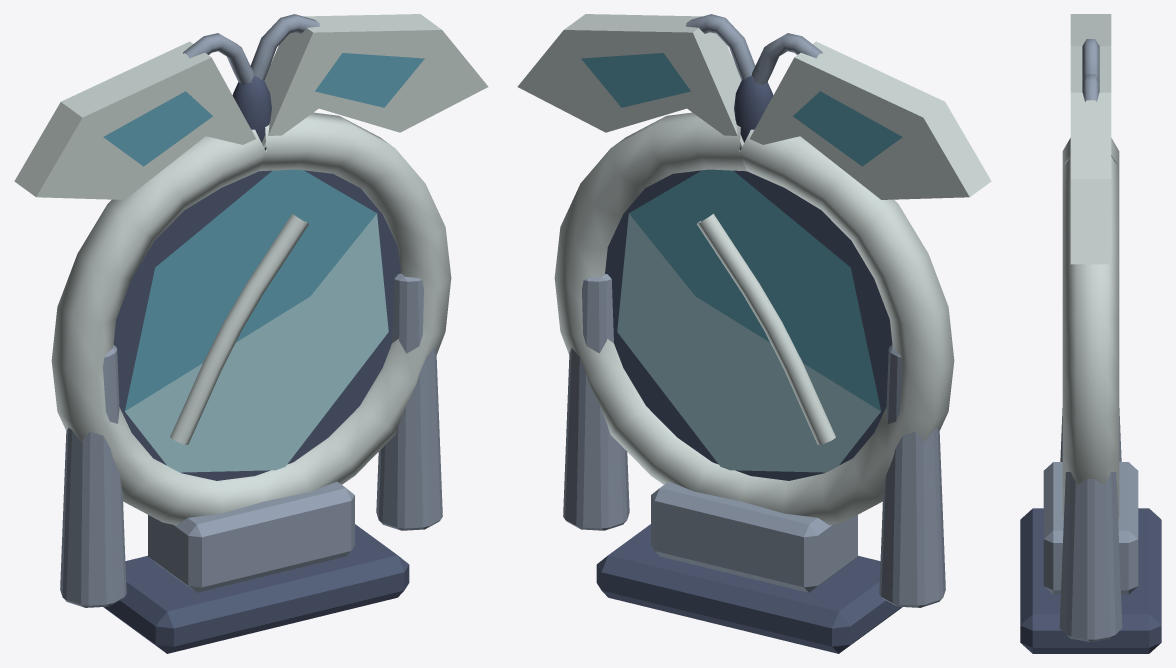
File: moon_mirror.glb
3 views of the same model, side by side, from view 1: azimuth 30°, elevation 25°; view 2: azimuth 150°, elevation 25°; view 3: azimuth 270°, elevation 25° (orthographic). The views are drawn at different scales.
Parts seen in each view (by area): view 1: Pigment_ccd8d6, Pigment_8f9cae, Pigment_64a8bc, Pigment_4e5974, Pigment_a6d3dc; view 2: Pigment_ccd8d6, Pigment_8f9cae, Pigment_64a8bc, Pigment_4e5974, Pigment_a6d3dc; view 3: Pigment_ccd8d6, Pigment_8f9cae, Pigment_4e5974.
Part boxes in pixels (x1,y1,x2,y2): Pigment_ccd8d6: (14, 14, 488, 525); Pigment_8f9cae: (60, 14, 442, 607); Pigment_64a8bc: (103, 53, 424, 410); Pigment_4e5974: (103, 75, 409, 653); Pigment_a6d3dc: (125, 213, 388, 472); Pigment_ccd8d6: (517, 14, 991, 525); Pigment_8f9cae: (563, 14, 945, 607); Pigment_64a8bc: (581, 53, 902, 410); Pigment_4e5974: (596, 75, 902, 653); Pigment_a6d3dc: (617, 213, 880, 472); Pigment_ccd8d6: (1062, 14, 1119, 519); Pigment_8f9cae: (1043, 39, 1138, 642); Pigment_4e5974: (1020, 508, 1161, 653).
Bounding box in the file's own units: 3.12 × 3.8 × 0.9.
